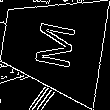M_W: (27, 18, 78, 72)
